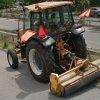Tractor: (7, 1, 91, 78)
